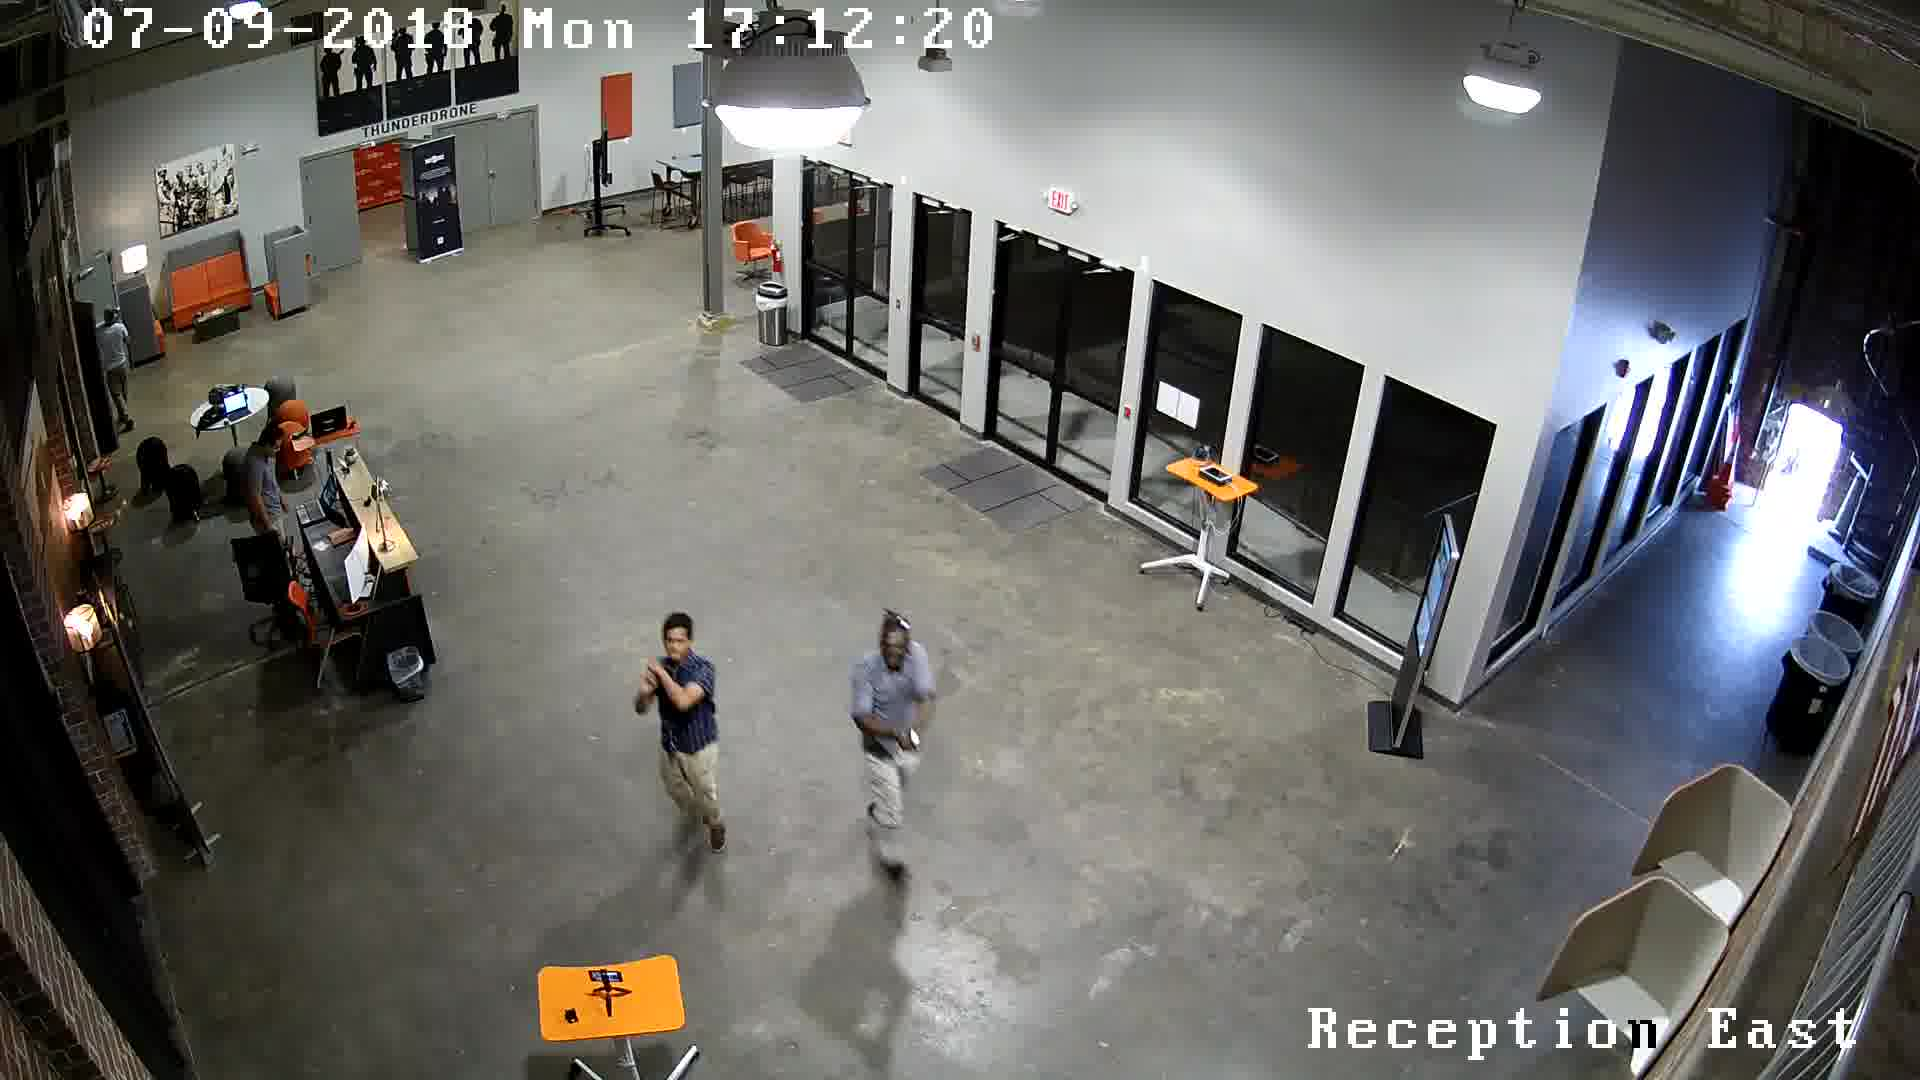pistol: (894, 720, 931, 762)
